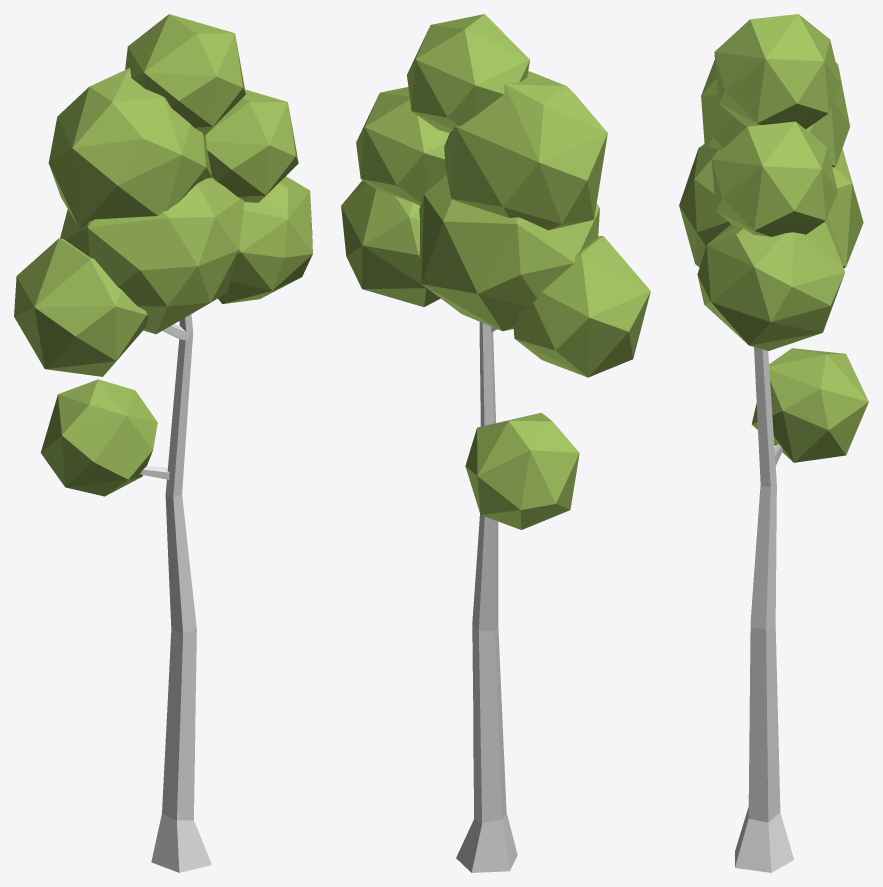
File: tree_birch01.fbx
3 renders of one model, left to right at view 1: azimuth 30°, elevation 25°; view 2: azimuth 150°, elevation 25°; view 3: azimuth 270°, elevation 25°, orthographic. The views are drawn at different scales.
Parts seen in each view (by area): view 1: tree_birch01; view 2: tree_birch01; view 3: tree_birch01.
Boxes of the visible parts, x1,y1,x2,y2 form: tree_birch01: [14, 14, 312, 872]; tree_birch01: [341, 14, 650, 872]; tree_birch01: [679, 14, 868, 872].
Size of the model in its own units: 2.89 by 7.96 by 1.62.
